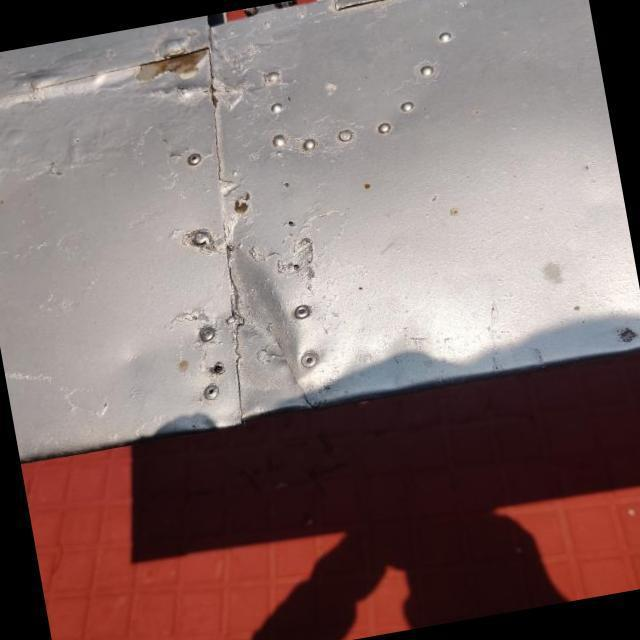Rupture: (296, 380, 330, 419)
